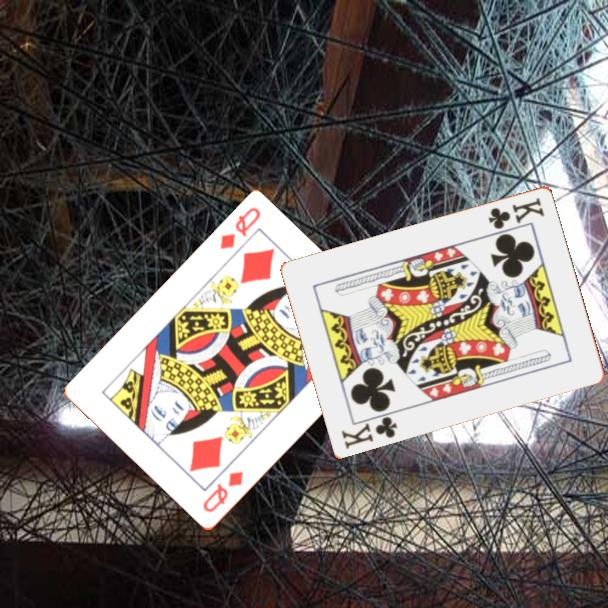c13: (338, 412, 401, 452), (485, 194, 547, 232)
d12: (216, 204, 264, 253), (199, 468, 246, 516)
